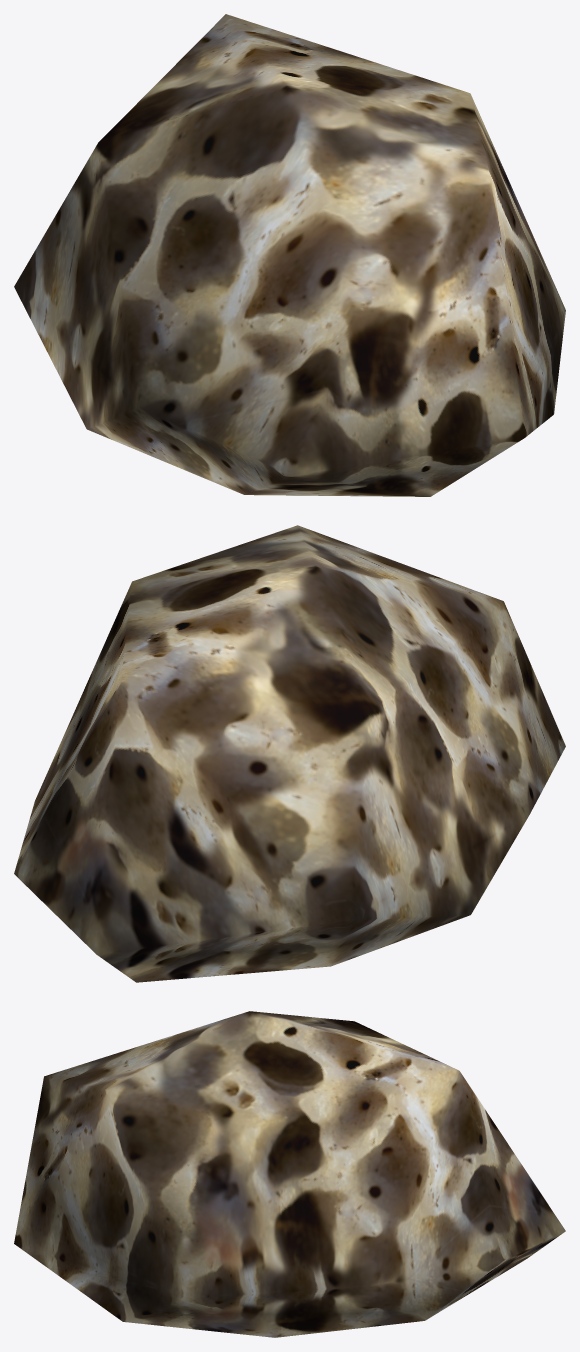
File: CoralStone-01_LOD1.fbx
3 renders of one model, top to bottom at view 1: azimuth 30°, elevation 25°; view 2: azimuth 150°, elevation 25°; view 3: azimuth 270°, elevation 25°, orthographic. The views are drawn at different scales.
Parts seen in each view (by area): view 1: CoralStone-01_medium; view 2: CoralStone-01_medium; view 3: CoralStone-01_medium.
Part boxes in pixels (x1,y1,x2,y2): CoralStone-01_medium: (14, 14, 565, 496); CoralStone-01_medium: (14, 525, 565, 982); CoralStone-01_medium: (14, 1011, 565, 1337).
Bounding box in the file's own units: 0.1331 × 0.1013 × 0.1921.
